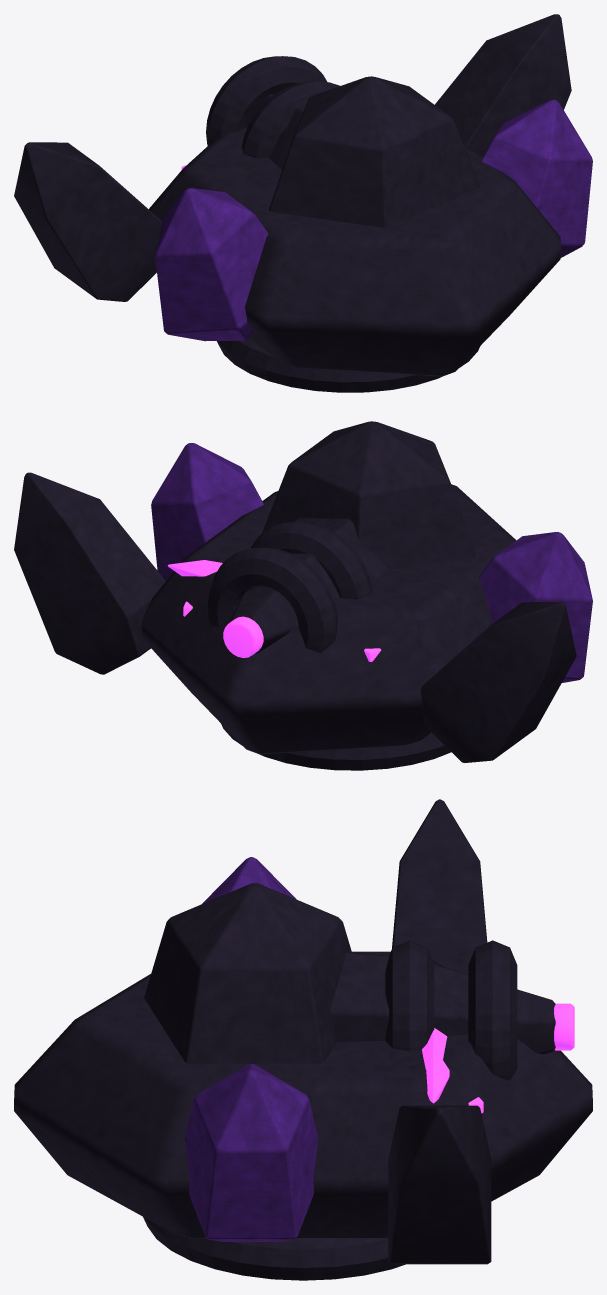
File: conclave_tesson.gltf
3 renders of one model, top to bottom at view 1: azimuth 30°, elevation 25°; view 2: azimuth 150°, elevation 25°; view 3: azimuth 270°, elevation 25°, orthographic. The views are drawn at different scales.
Visible parts, largest first — view 1: Body_Geometry, GunRecoil_Geometry; view 2: Body_Geometry, GunRecoil_Geometry; view 3: Body_Geometry, GunRecoil_Geometry.
Boxes of the visible parts, left/top/right/bottom form: Body_Geometry: left=14, top=14, right=592, bottom=392; GunRecoil_Geometry: left=206, top=56, right=339, bottom=169; Body_Geometry: left=14, top=421, right=592, bottom=770; GunRecoil_Geometry: left=167, top=518, right=388, bottom=657; Body_Geometry: left=14, top=799, right=592, bottom=1280; GunRecoil_Geometry: left=330, top=940, right=574, bottom=1103.
Size of the model in its own units: 2.28 by 1.13 by 1.78.
Materials: 3 (2 with a texture image).
